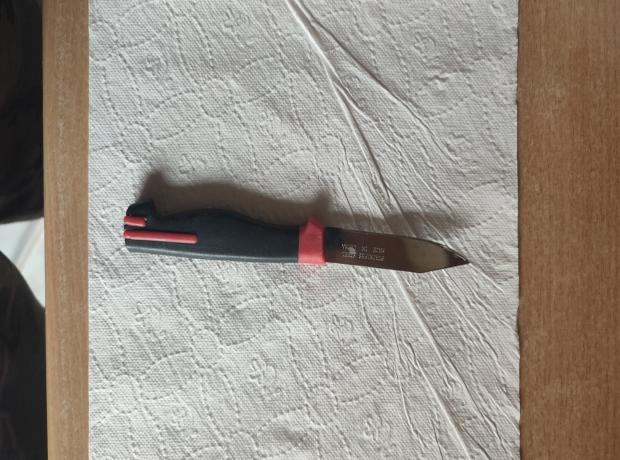metal: (124, 203, 469, 272)
